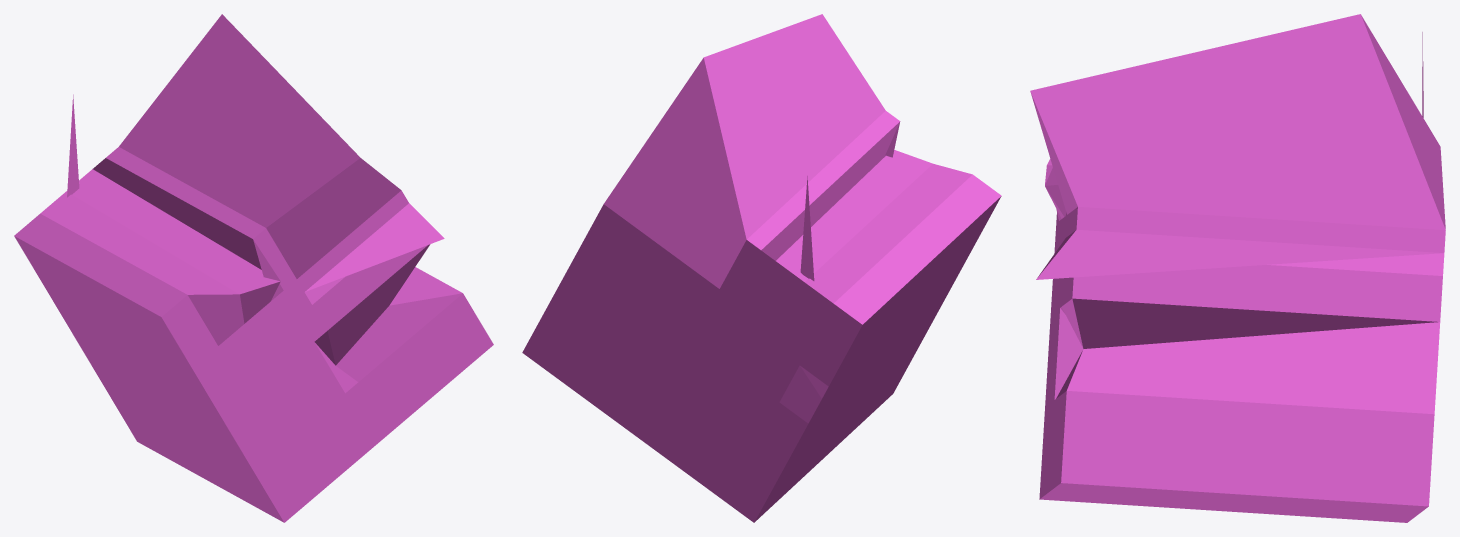
3 views of the same model, side by side, from view 1: azimuth 30°, elevation 25°; view 2: azimuth 150°, elevation 25°; view 3: azimuth 270°, elevation 25° (orthographic). The views are drawn at different scales.
Visible parts, largest first — view 1: Cube; view 2: Cube; view 3: Cube.
Boxes of the visible parts, x1,y1,x2,y2 form: Cube: (14, 14, 493, 522); Cube: (522, 14, 1001, 522); Cube: (1030, 14, 1445, 522).
Bounding box in the file's own units: 275 × 330 × 225.
